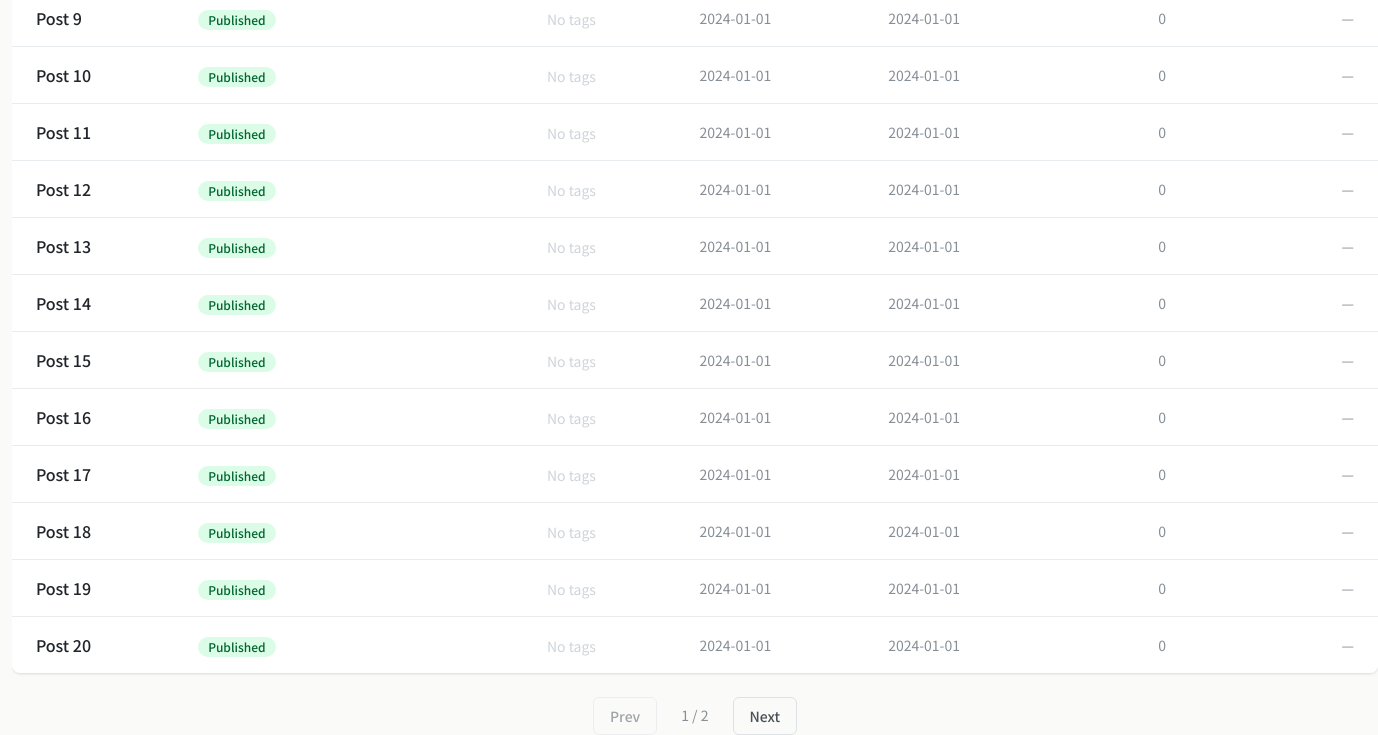
Test: PostList › Pagination › should disable "Next" button on last page
(page scrolled)
Click the button "Next" at (765,716), box [732,697,797,734]
(page scrolled)
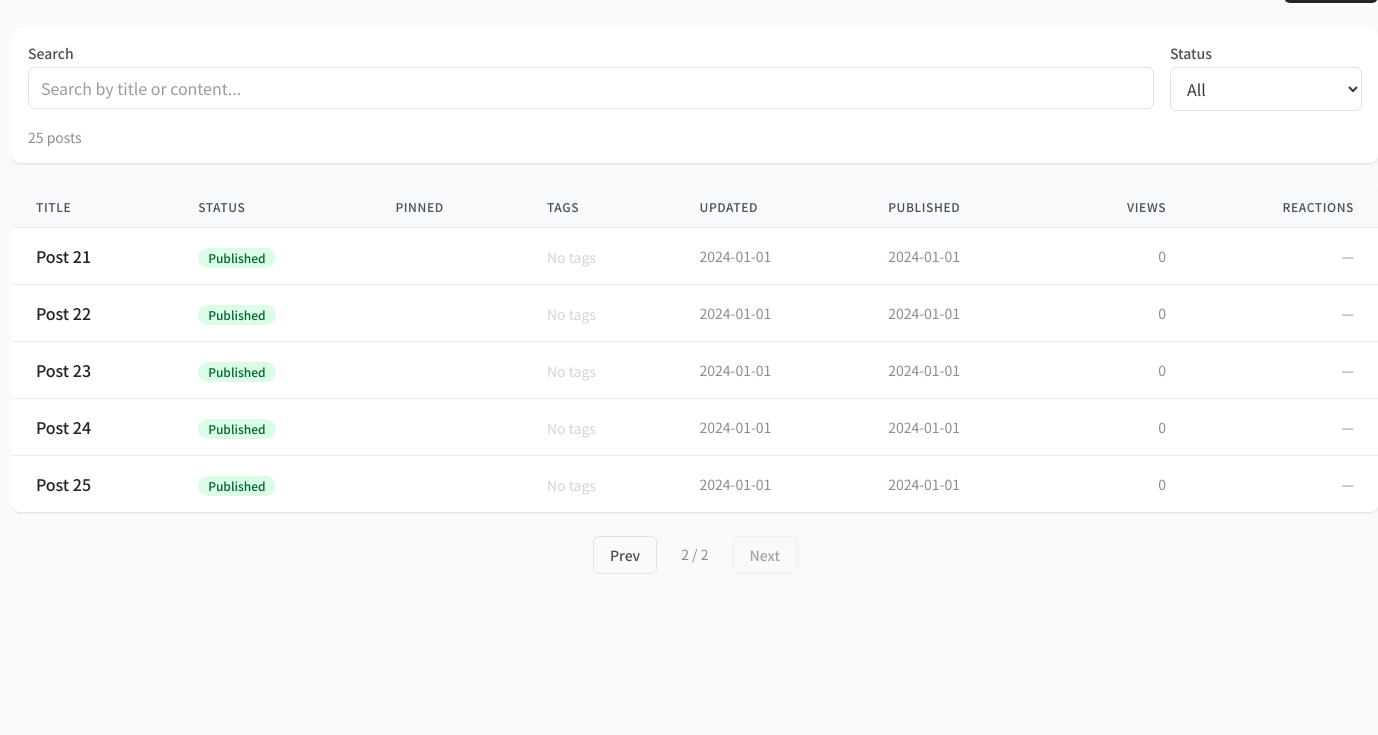
Check: the button "Next" is disabled, box [732,536,797,574]
Check: the button "Prev" is enabled, box [593,536,657,574]
